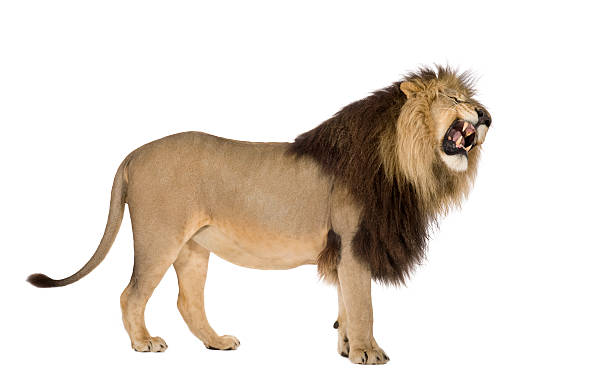lion: (278, 31, 500, 305)
